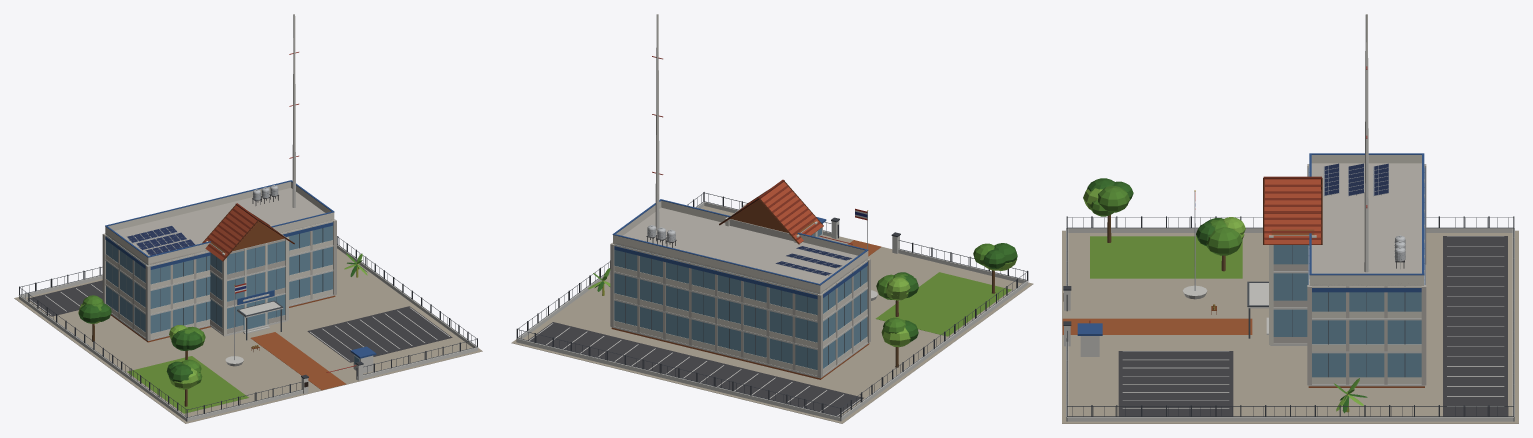
Rendered from police.glb.
The picture shows the model from 3 angles, left to right: view 1: azimuth 30°, elevation 25°; view 2: azimuth 150°, elevation 25°; view 3: azimuth 270°, elevation 25°; orthographic projection. The views are drawn at different scales.
Visible parts, largest first — view 1: body; view 2: body; view 3: body.
Part boxes in pixels (bbox=[...]): body: bbox=[14, 14, 482, 423]; body: bbox=[511, 14, 1033, 423]; body: bbox=[1062, 14, 1518, 423].
Bounding box in the file's own units: 47.9 × 41.84 × 47.9.
